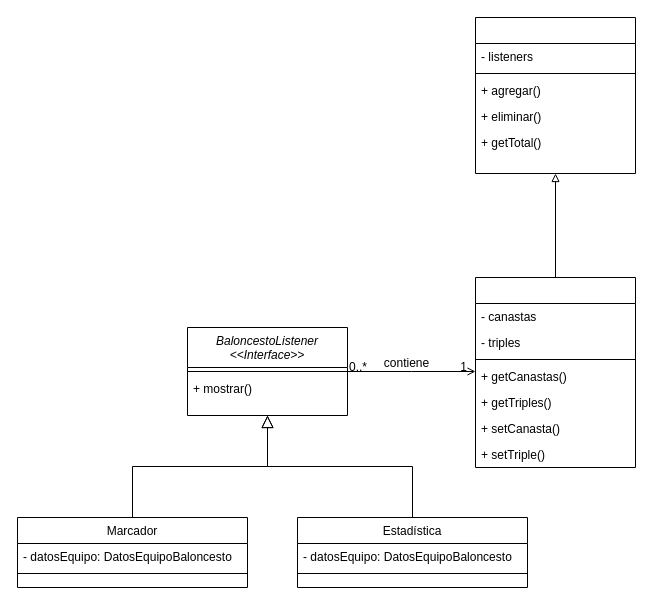
Some shapes in this 653 by 605 pixel diagram are drawn without their labels. The shapes that lost their labels are listed below. From the top down, each one's box as (x1, y1, x2, y2) in pixels, then its label:
(474, 16, 636, 174): DatosEquipo
(474, 276, 636, 468): DatosEquipoBaloncesto
